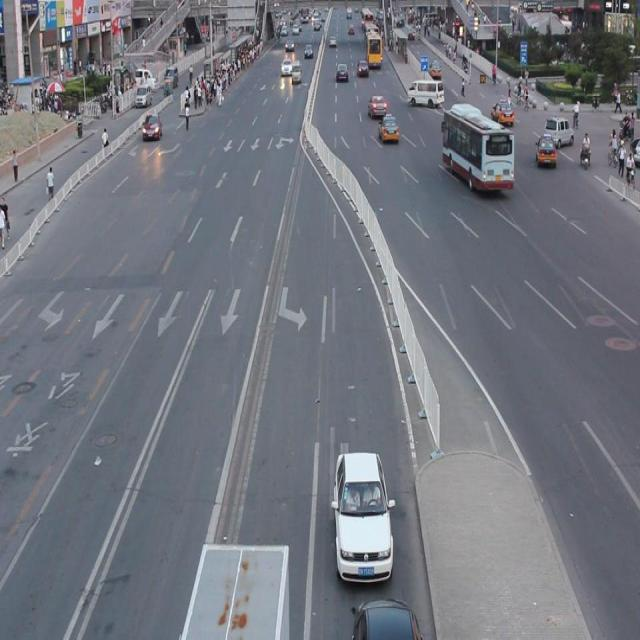bus: (179, 541, 287, 640)
car: (333, 449, 393, 582), (352, 594, 421, 640)
